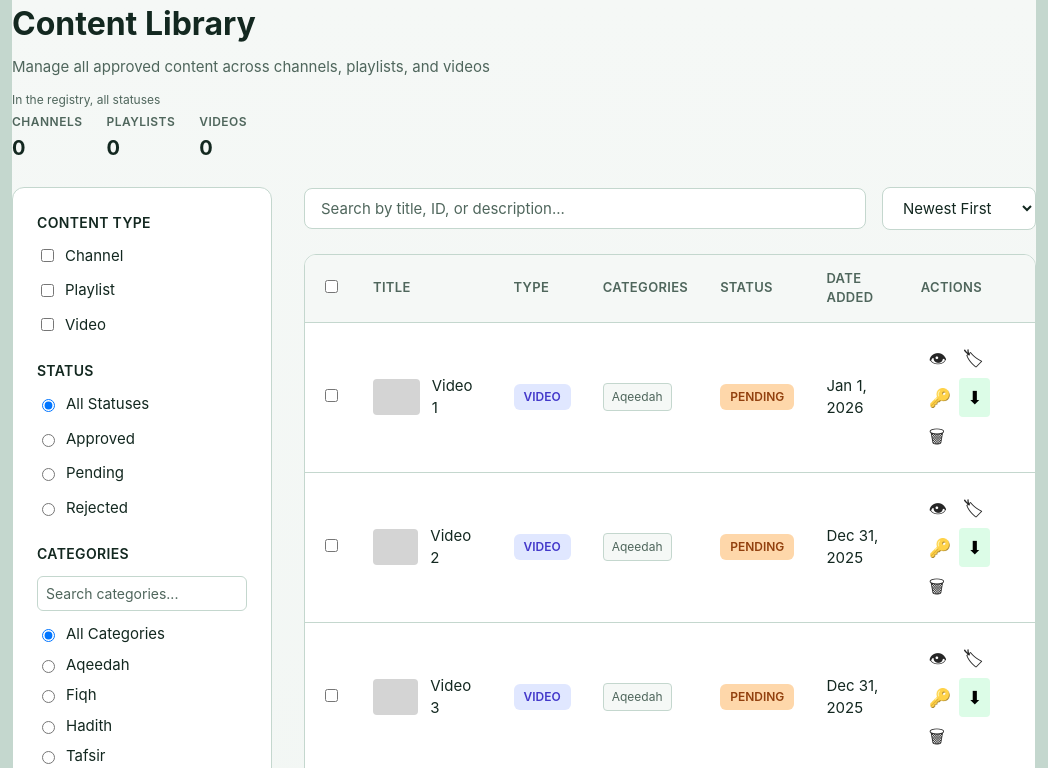
Test case: ContentLibraryView keeps the loaded window across mutations › tops up a client-side sort mode after a row is removed from its page
Expected: the text "Video 1" is shown, [432, 376, 473, 417]
Select "Name (A-Z)" in the dropdown with class "sort-select" at coordinates (959, 208), box [882, 186, 1036, 230]
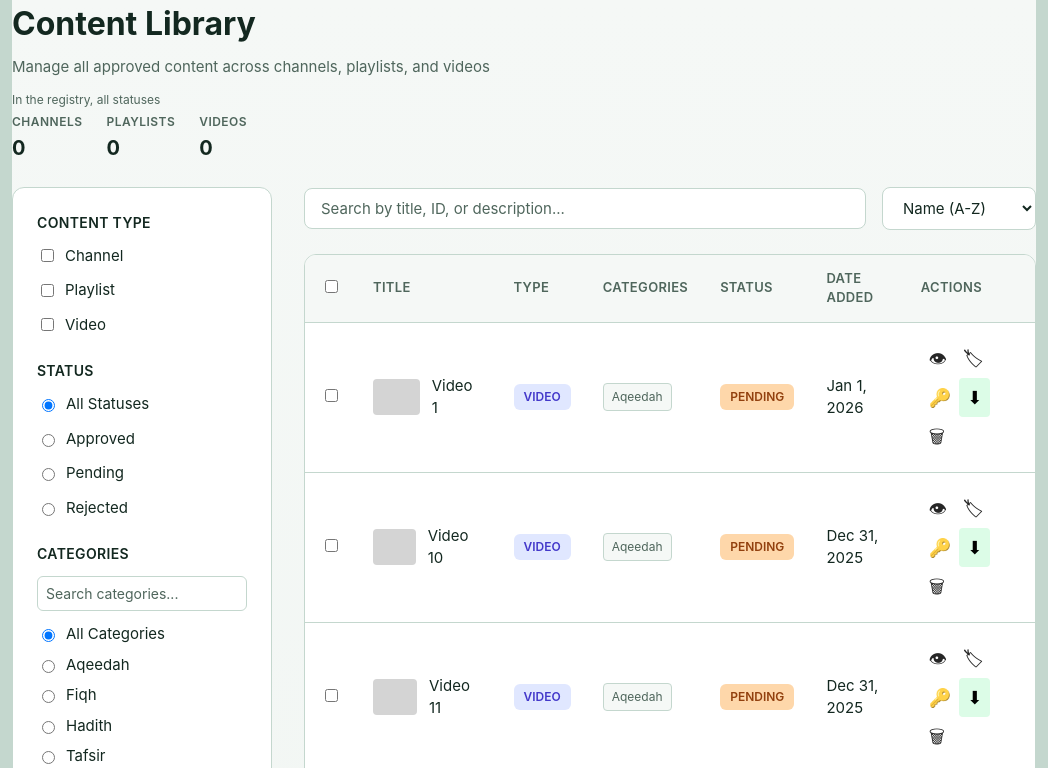
Click the radio button labelled "Pending".
click(48, 475)  # box [42, 468, 55, 481]
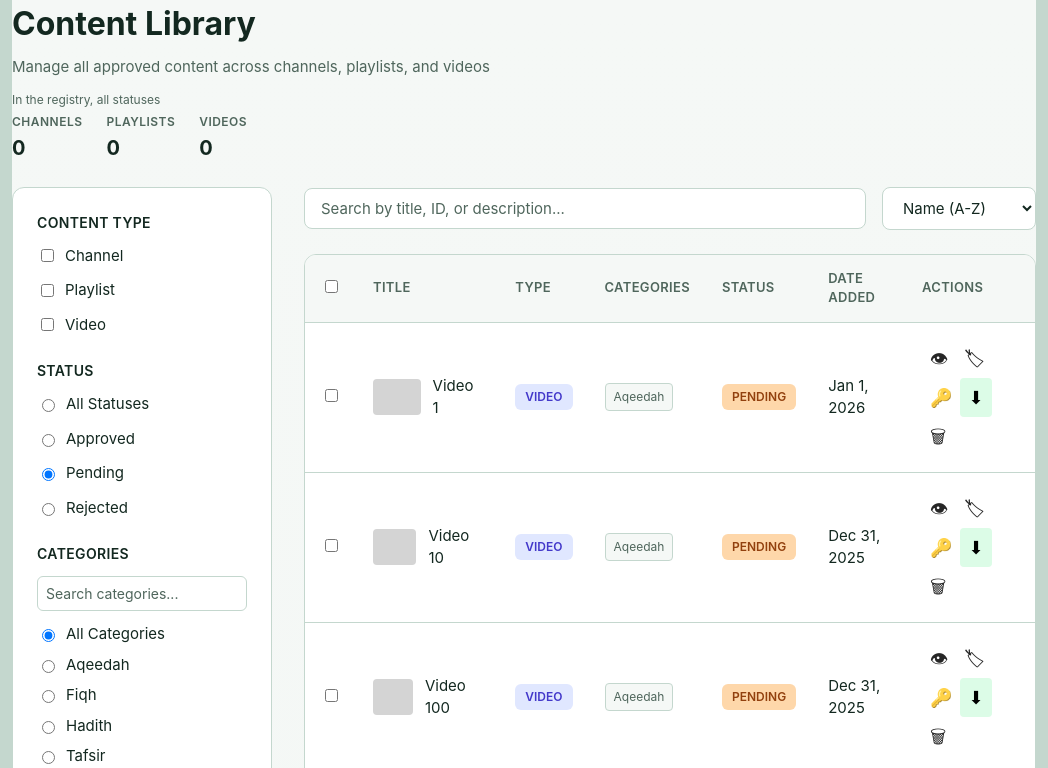
Expected: the text "Video 100" is shown, [425, 676, 466, 717]
Click the 3rd button titled "Delete".
click(938, 736)  # box [922, 716, 954, 756]
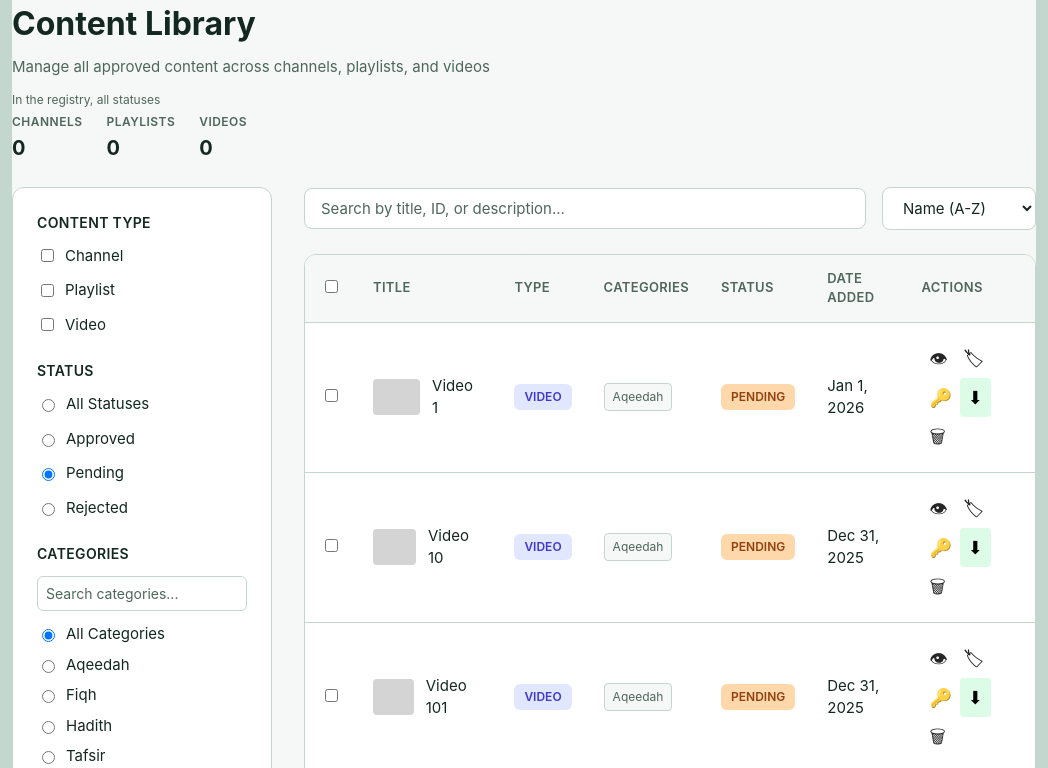
Expected: the text "Video 101" is shown, [426, 676, 467, 717]
